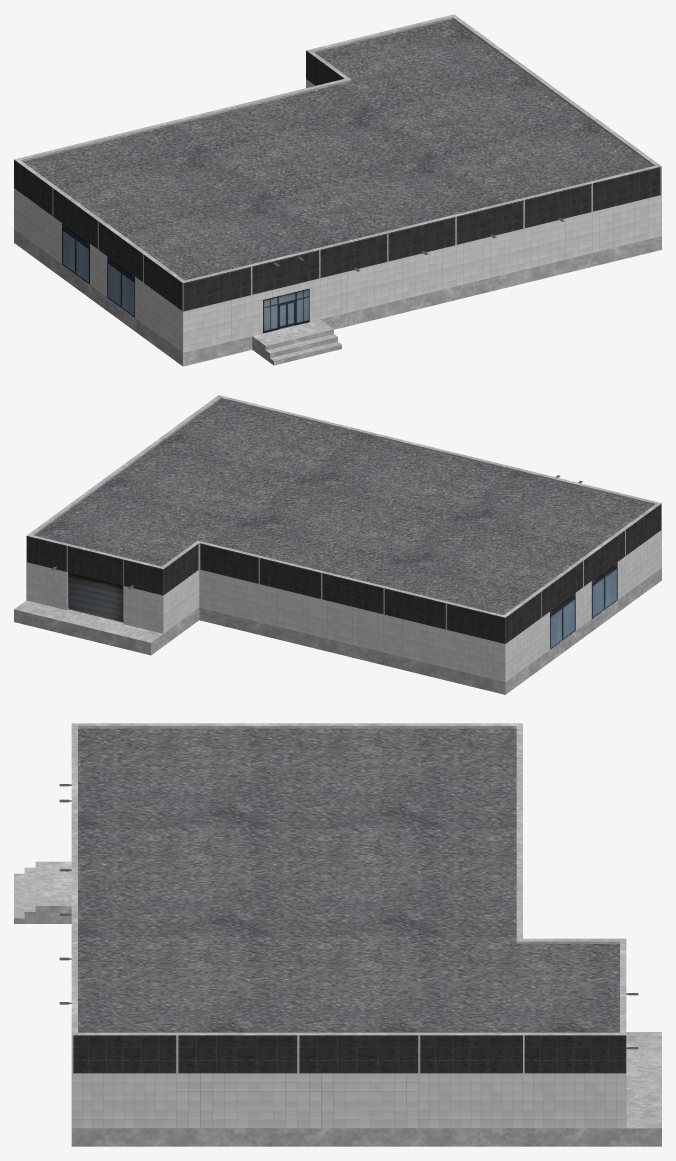
Rendered from supermarket.glb.
The picture shows the model from 3 angles, top to bottom: view 1: azimuth 30°, elevation 25°; view 2: azimuth 150°, elevation 25°; view 3: azimuth 270°, elevation 25°; orthographic projection. The views are drawn at different scales.
Parts seen in each view (by area): view 1: supermarket; view 2: supermarket; view 3: supermarket.
Boxes of the visible parts, x1,y1,x2,y2 form: supermarket: [14, 14, 661, 366]; supermarket: [14, 395, 661, 694]; supermarket: [14, 723, 661, 1146].
Size of the model in its own units: 5 by 0.8324 by 4.39.
Materials: 2 (2 with a texture image).
